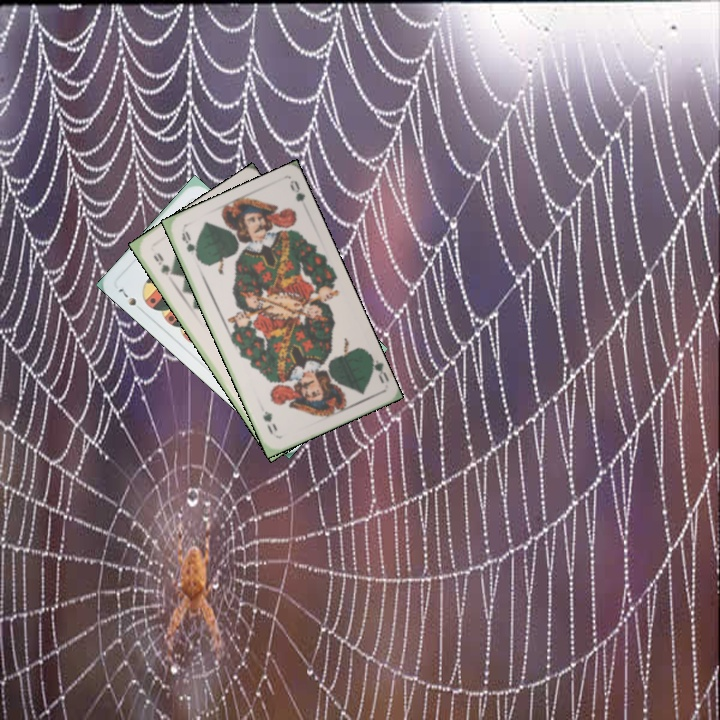G9: (149, 249, 177, 279)
GO: (363, 350, 390, 386), (178, 227, 203, 264)
S7: (113, 284, 139, 308)
